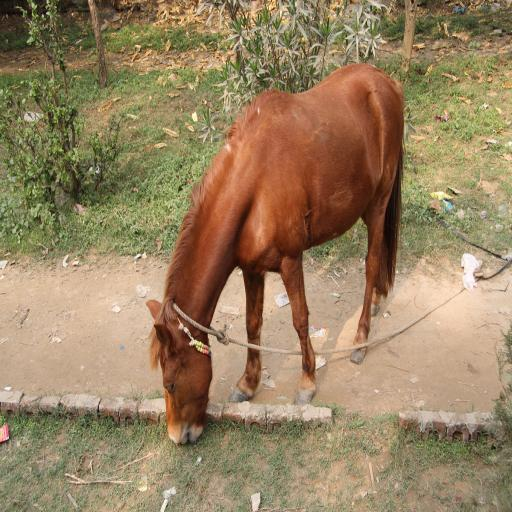horse: (148, 64, 406, 448)
